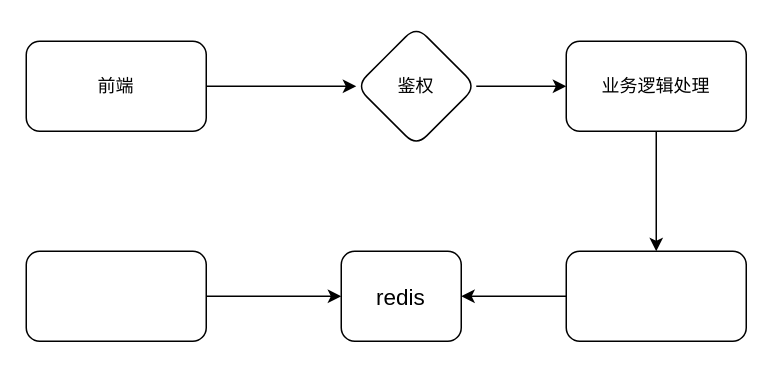
The diagram is 773 pixels wide and 368 high, and some of its shapes have lost their labels. Here are the shapes that lost their labels. From the top down, the centre of each, then its label:
At (115,295): "消费".
At (655,295): "异步任务".
